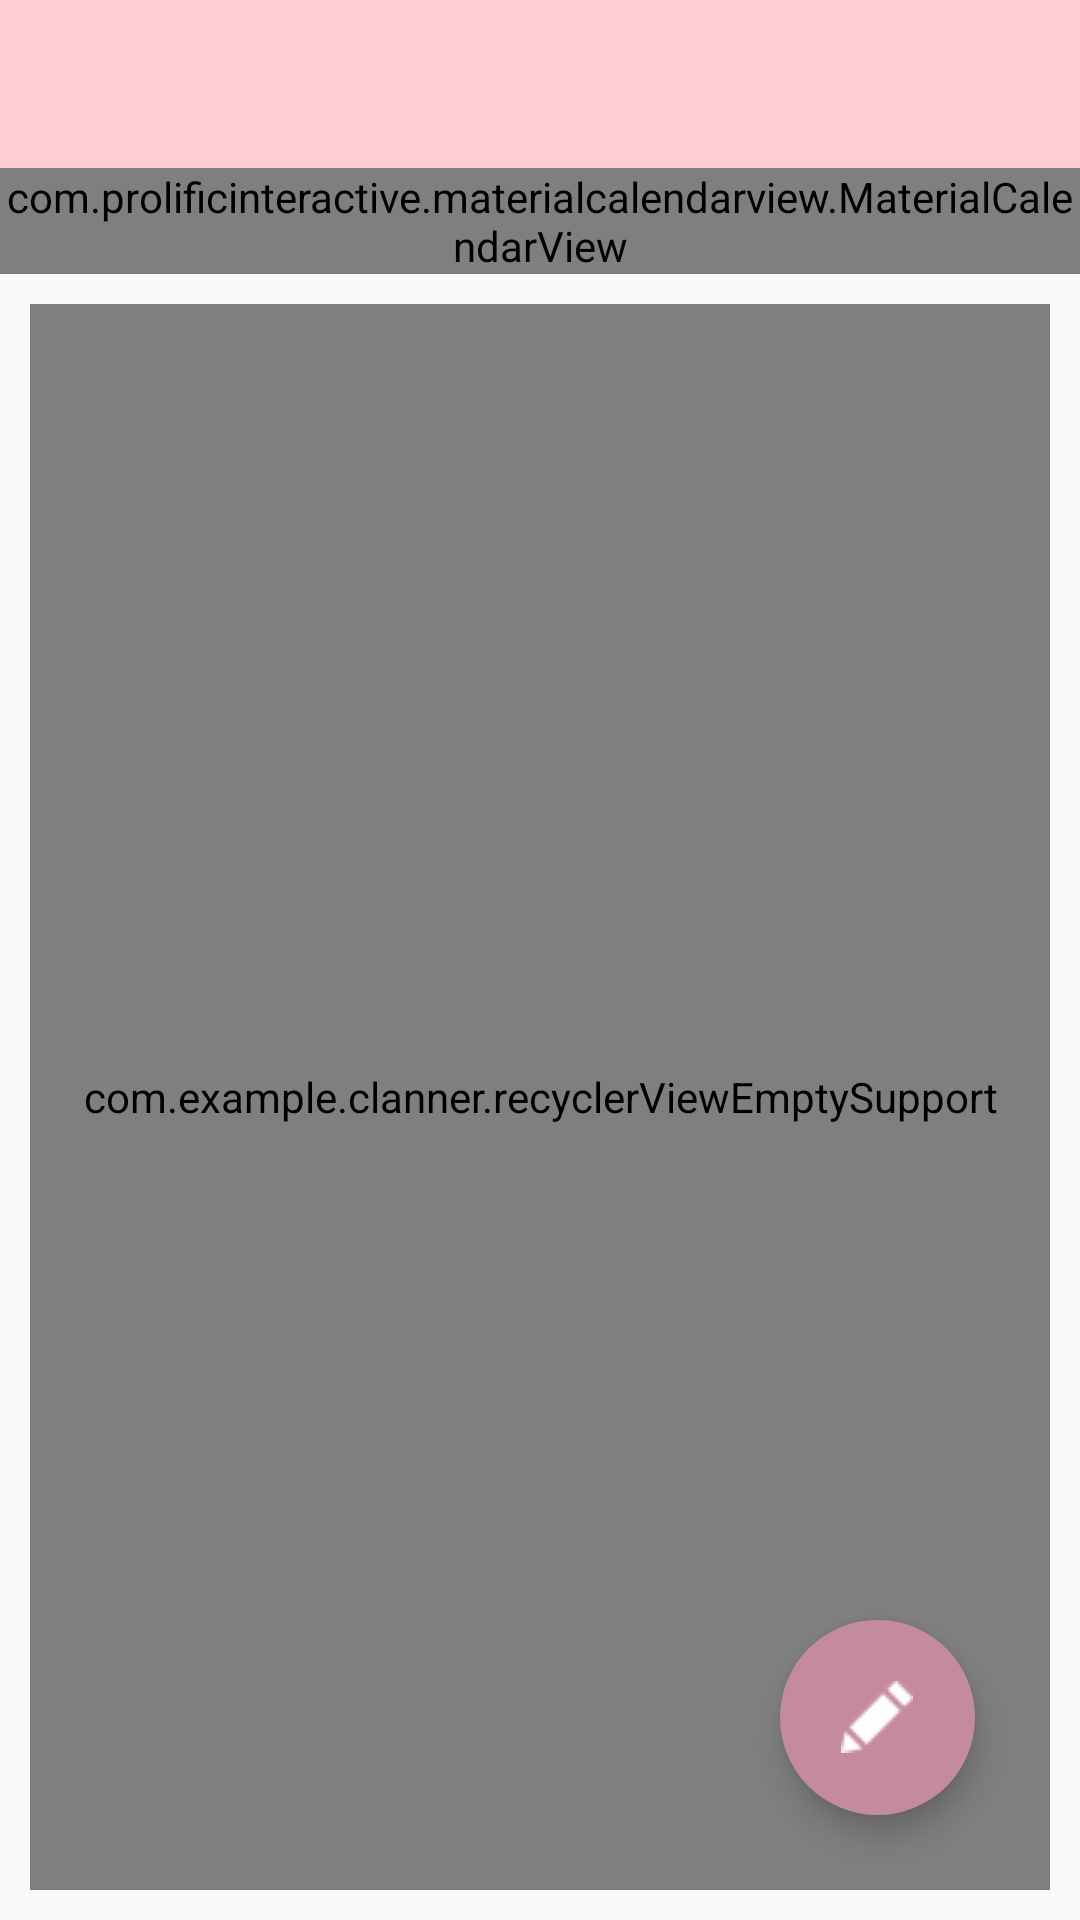

Where to tap for icons on this 1080w x 1920h app screen, as (x,y):
pencil: (877,1717)
